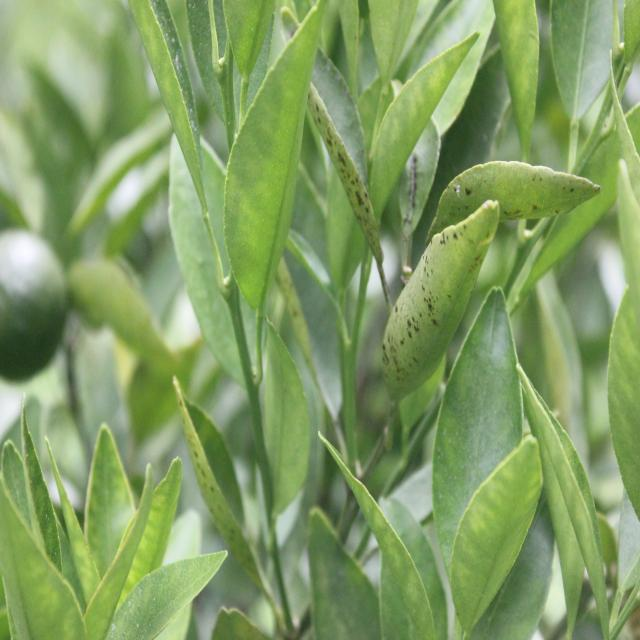blackspot: (170, 382, 261, 591), (382, 216, 488, 390), (314, 103, 382, 269), (431, 167, 585, 236)
